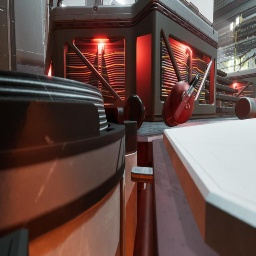FireExtinguisher ]: (162, 74, 200, 127), (124, 95, 147, 130)
NitrogenTank ,: (235, 96, 256, 120)
